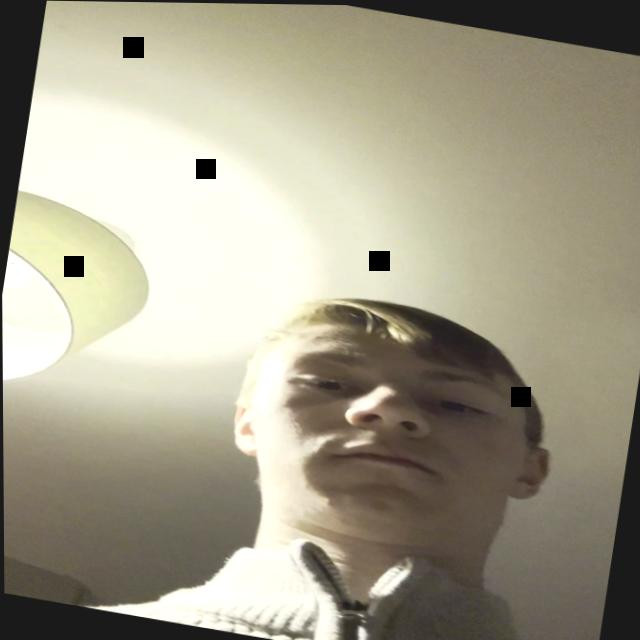NO-Mask: (214, 283, 574, 600)
